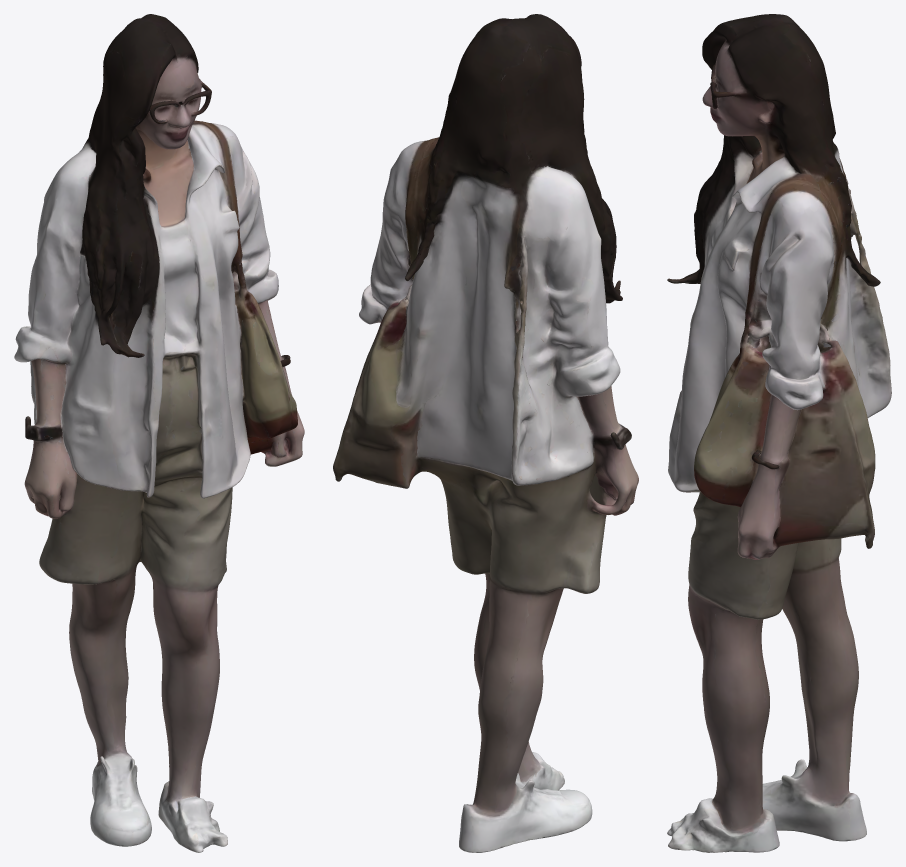
3 renders of one model, left to right at view 1: azimuth 30°, elevation 25°; view 2: azimuth 150°, elevation 25°; view 3: azimuth 270°, elevation 25°, orthographic. The views are drawn at different scales.
Visible parts, largest first — view 1: world; view 2: world; view 3: world.
Boxes of the visible parts, x1,y1,x2,y2 form: world: [14, 14, 304, 852]; world: [333, 14, 638, 852]; world: [667, 14, 891, 852].
Size of the model in its own units: 0.351 by 1 by 0.25.
1 material, 1 textured.
